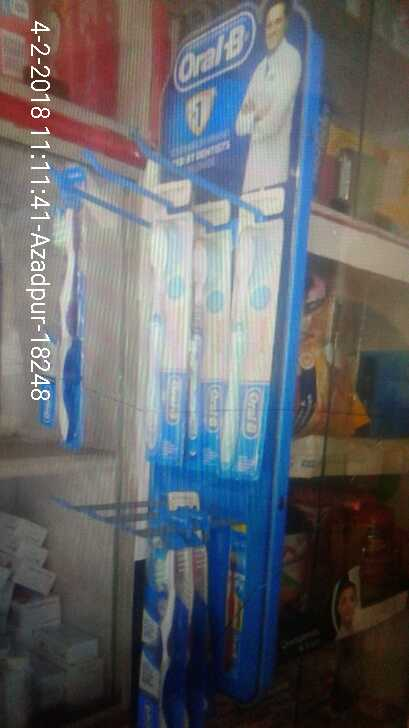oralb: (137, 540, 223, 728), (36, 197, 93, 449)
